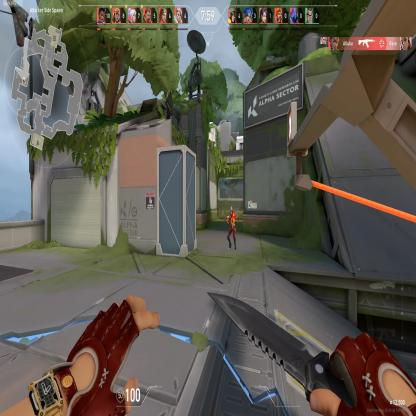enemy: (226, 206, 237, 252)
